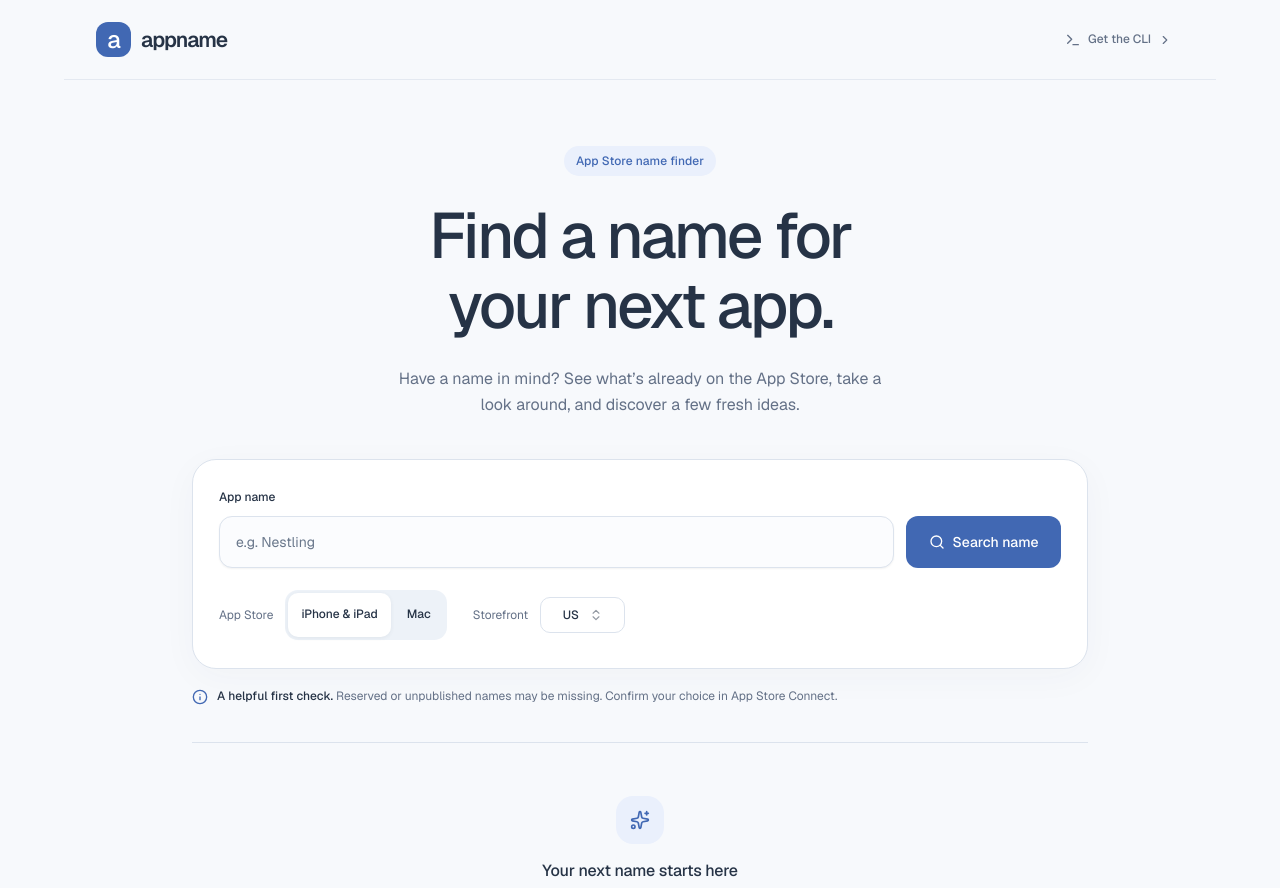
Test: Appname interface › cancels pending alternative checks when the search is cleared
Step 1. Type "Cradle" into the field labelled "App name" → [556, 542], box left=219, top=516, right=894, bottom=568
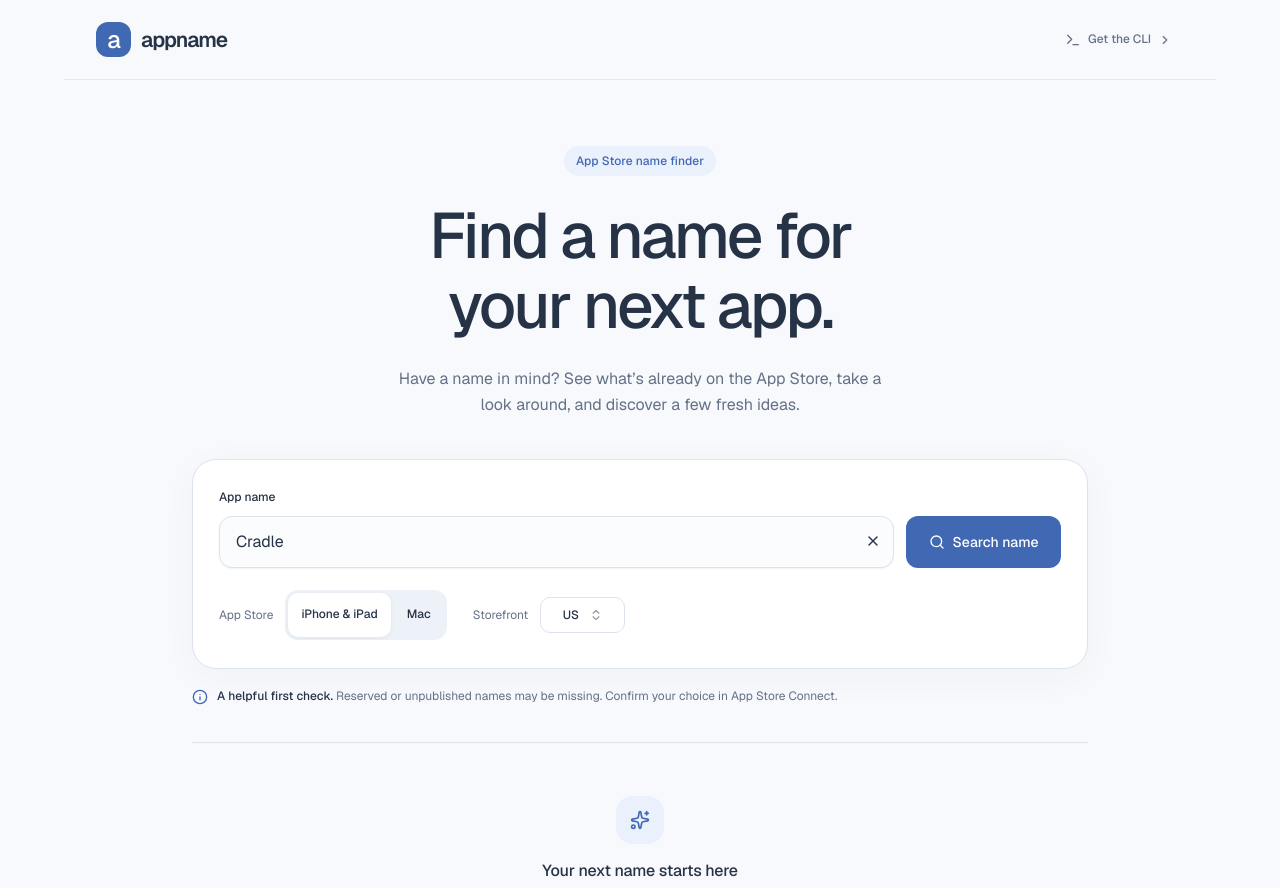
Step 2. Submit the form "Search name", box left=219, top=488, right=1061, bottom=640
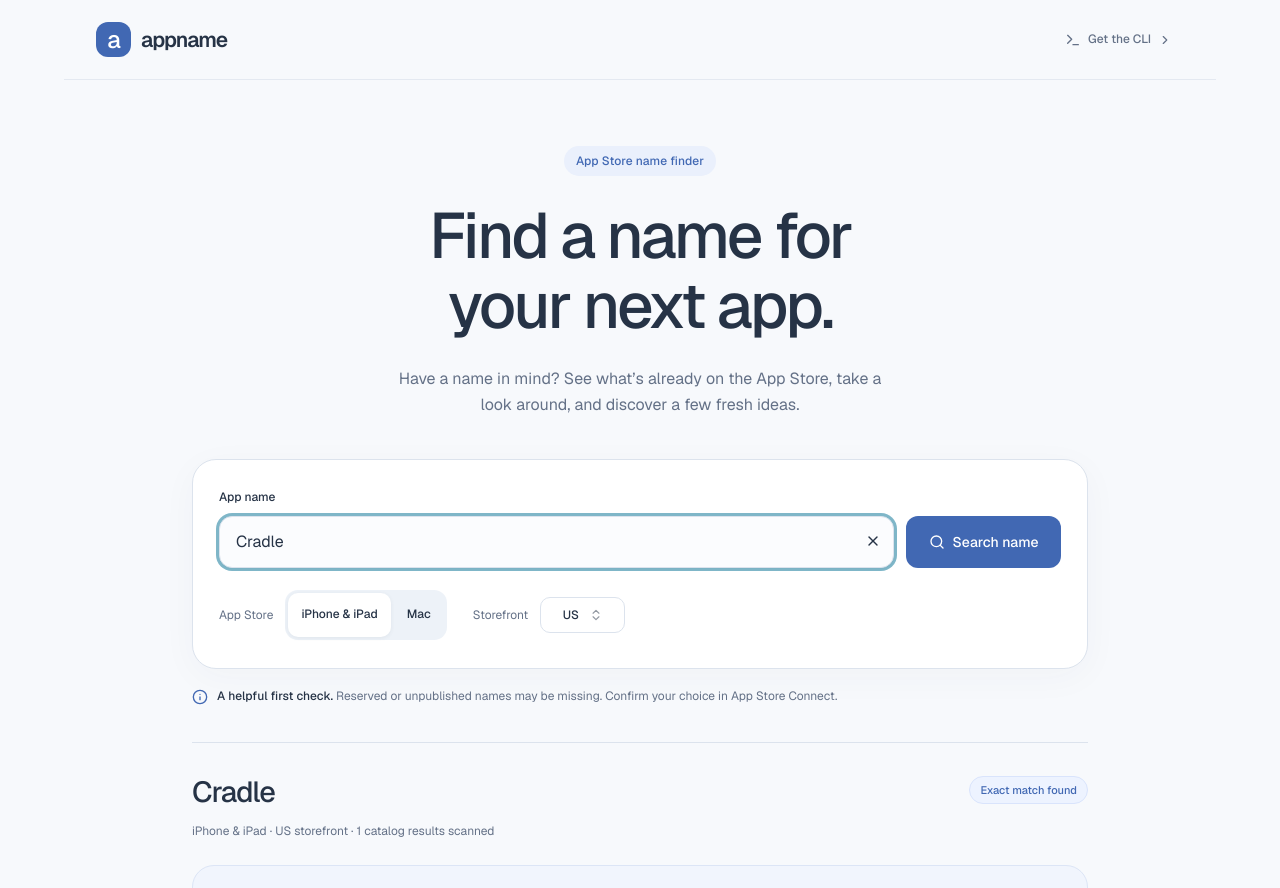
expect the text "Exact match found" is shown: met, box left=970, top=776, right=1088, bottom=804
Step 3. Click the button named "Clear name" → [873, 541], box left=855, top=519, right=891, bottom=563
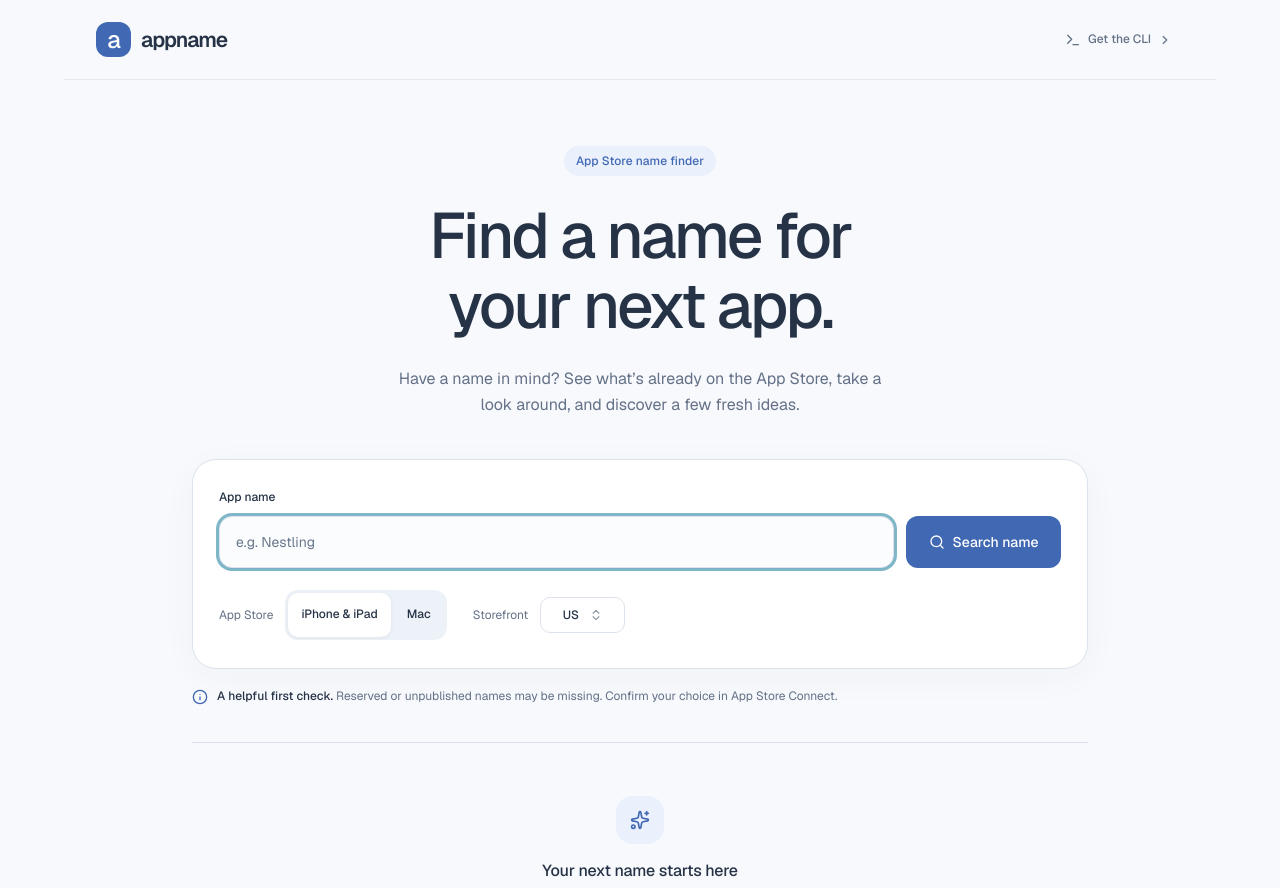
expect the heading "Your next name starts here" is shown: met, box left=542, top=860, right=738, bottom=881
